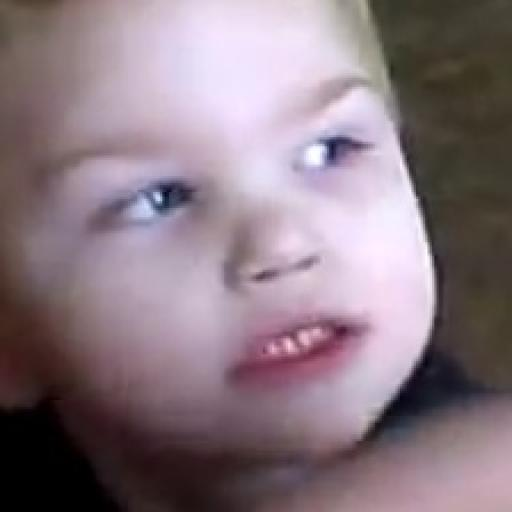Autism: (10, 6, 480, 490)
